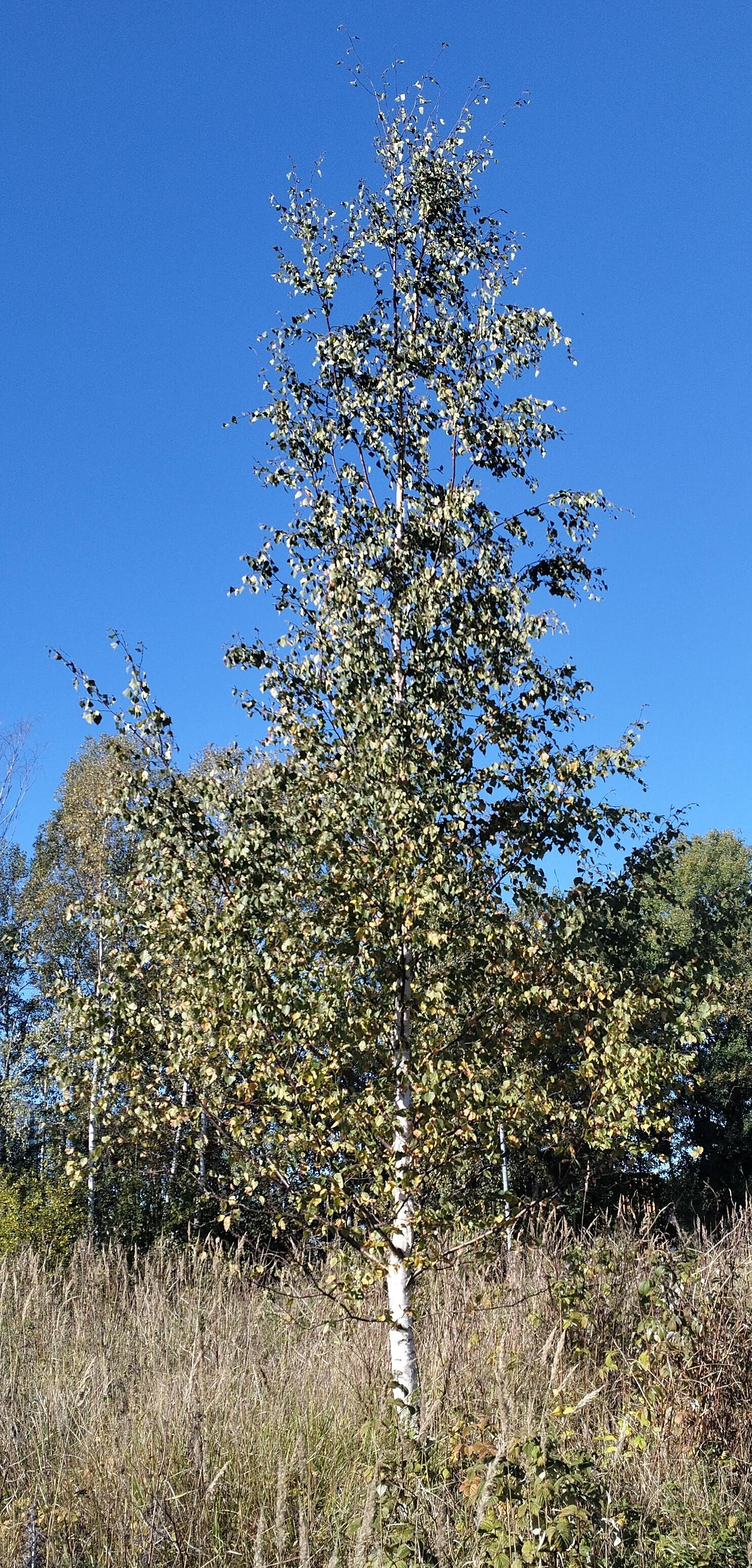Birch: (27, 23, 736, 1443)
